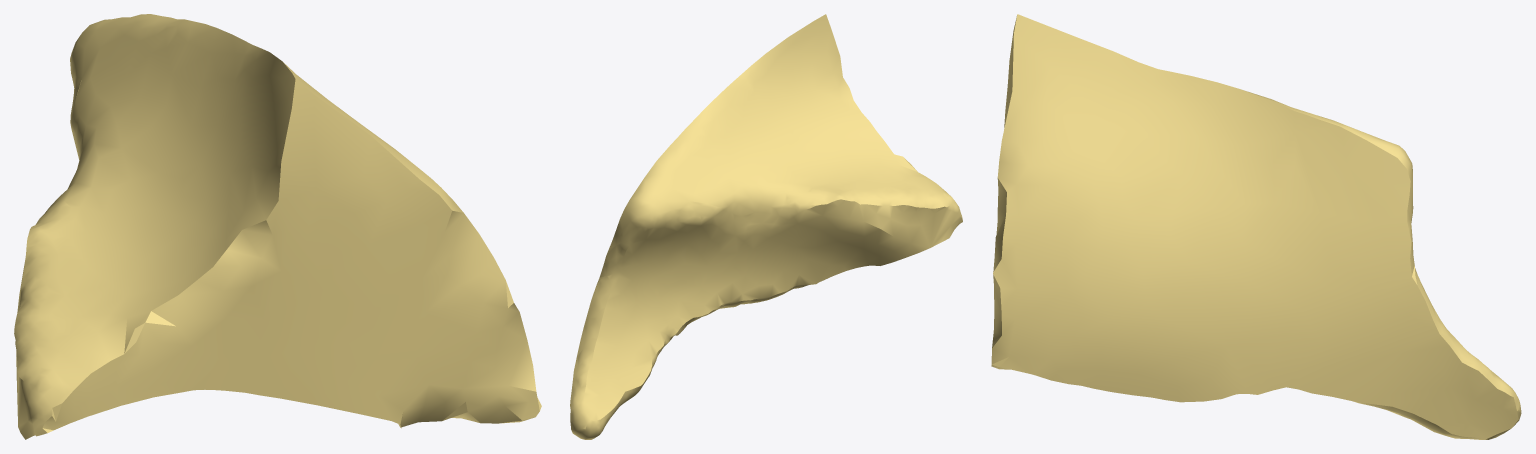
The model's file is fma242366_mm3072.glb.
3 views of the same model, side by side, from view 1: azimuth 30°, elevation 25°; view 2: azimuth 150°, elevation 25°; view 3: azimuth 270°, elevation 25° (orthographic). The views are drawn at different scales.
Visible parts, largest first — view 1: FMA242366_MM3072; view 2: FMA242366_MM3072; view 3: FMA242366_MM3072.
Boxes of the visible parts, <box> form: FMA242366_MM3072: <box>14,14,541,439</box>; FMA242366_MM3072: <box>570,14,962,439</box>; FMA242366_MM3072: <box>991,14,1521,439</box>.
Bounding box in the file's own units: 0.0155 × 0.0164 × 0.0202.
